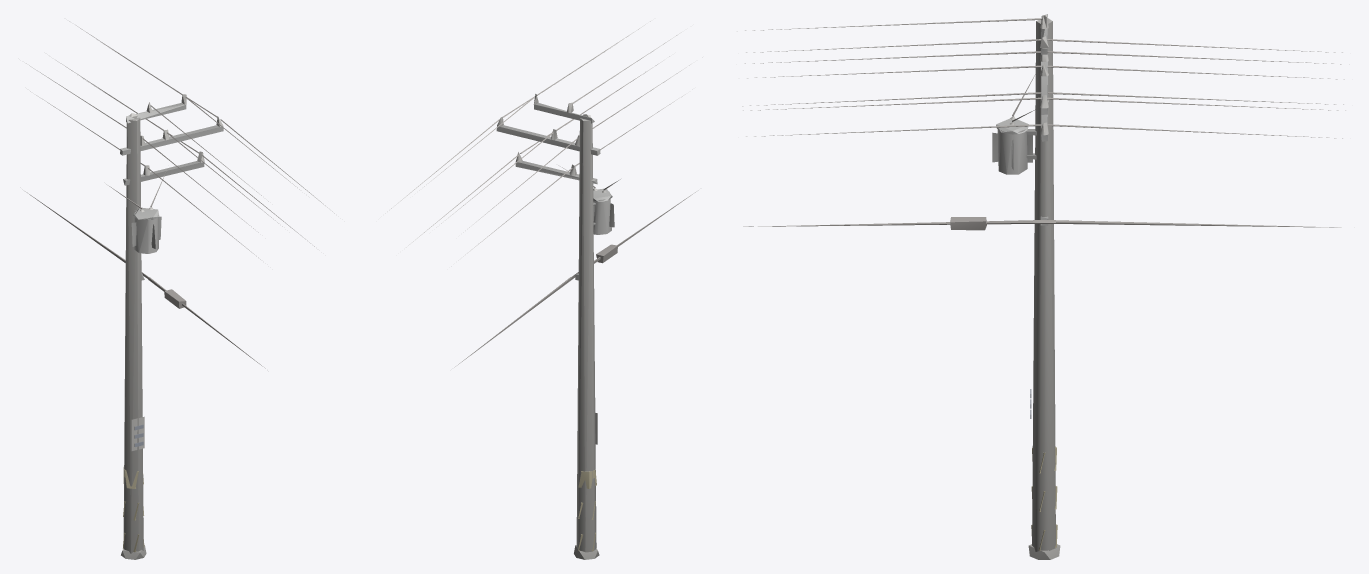
Rendered from pole.lod2.glb.
3 renders of one model, left to right at view 1: azimuth 30°, elevation 25°; view 2: azimuth 150°, elevation 25°; view 3: azimuth 270°, elevation 25°, orthographic. The views are drawn at different scales.
Size of the model in its own units: 2.28 by 7.96 by 8.18.
